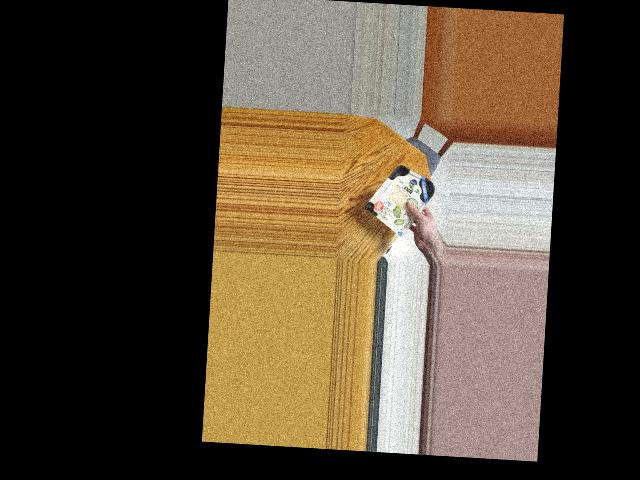cheese: (368, 166, 440, 227)
